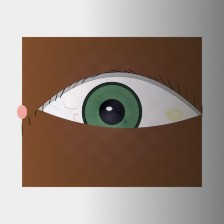pinguecula_lesion: (157, 101, 192, 129)
